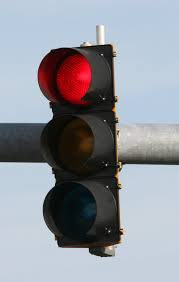red: (37, 41, 129, 253), (49, 51, 111, 242), (53, 56, 97, 236)
